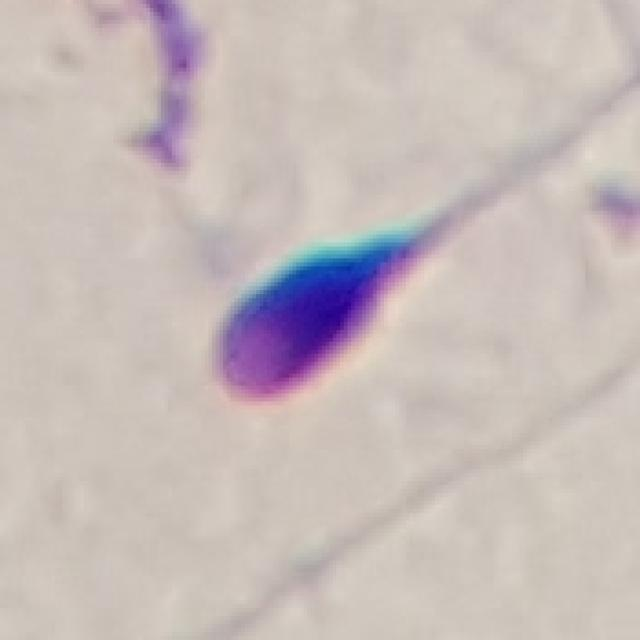normal sperm: (200, 148, 556, 414)
